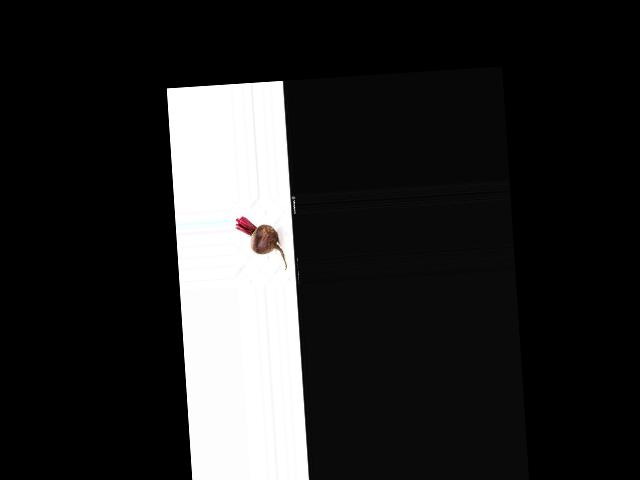beet: (235, 214, 287, 273)
